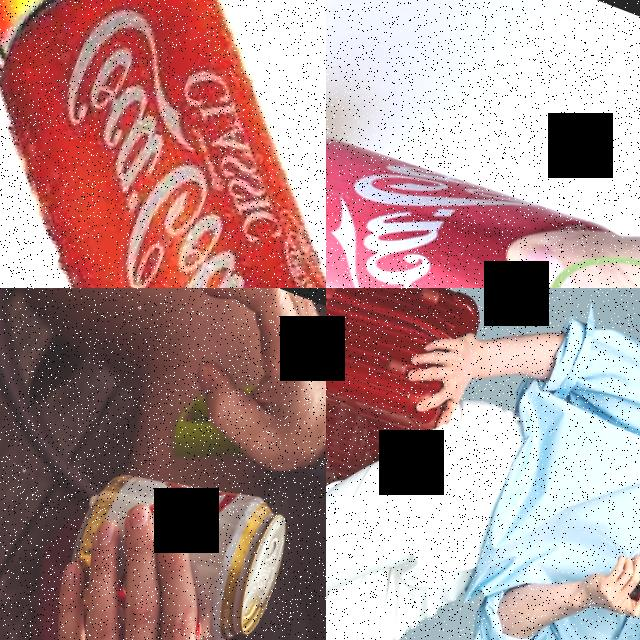can: (0, 0, 326, 288), (326, 76, 640, 288), (47, 438, 304, 640)
cup: (611, 540, 640, 631)
